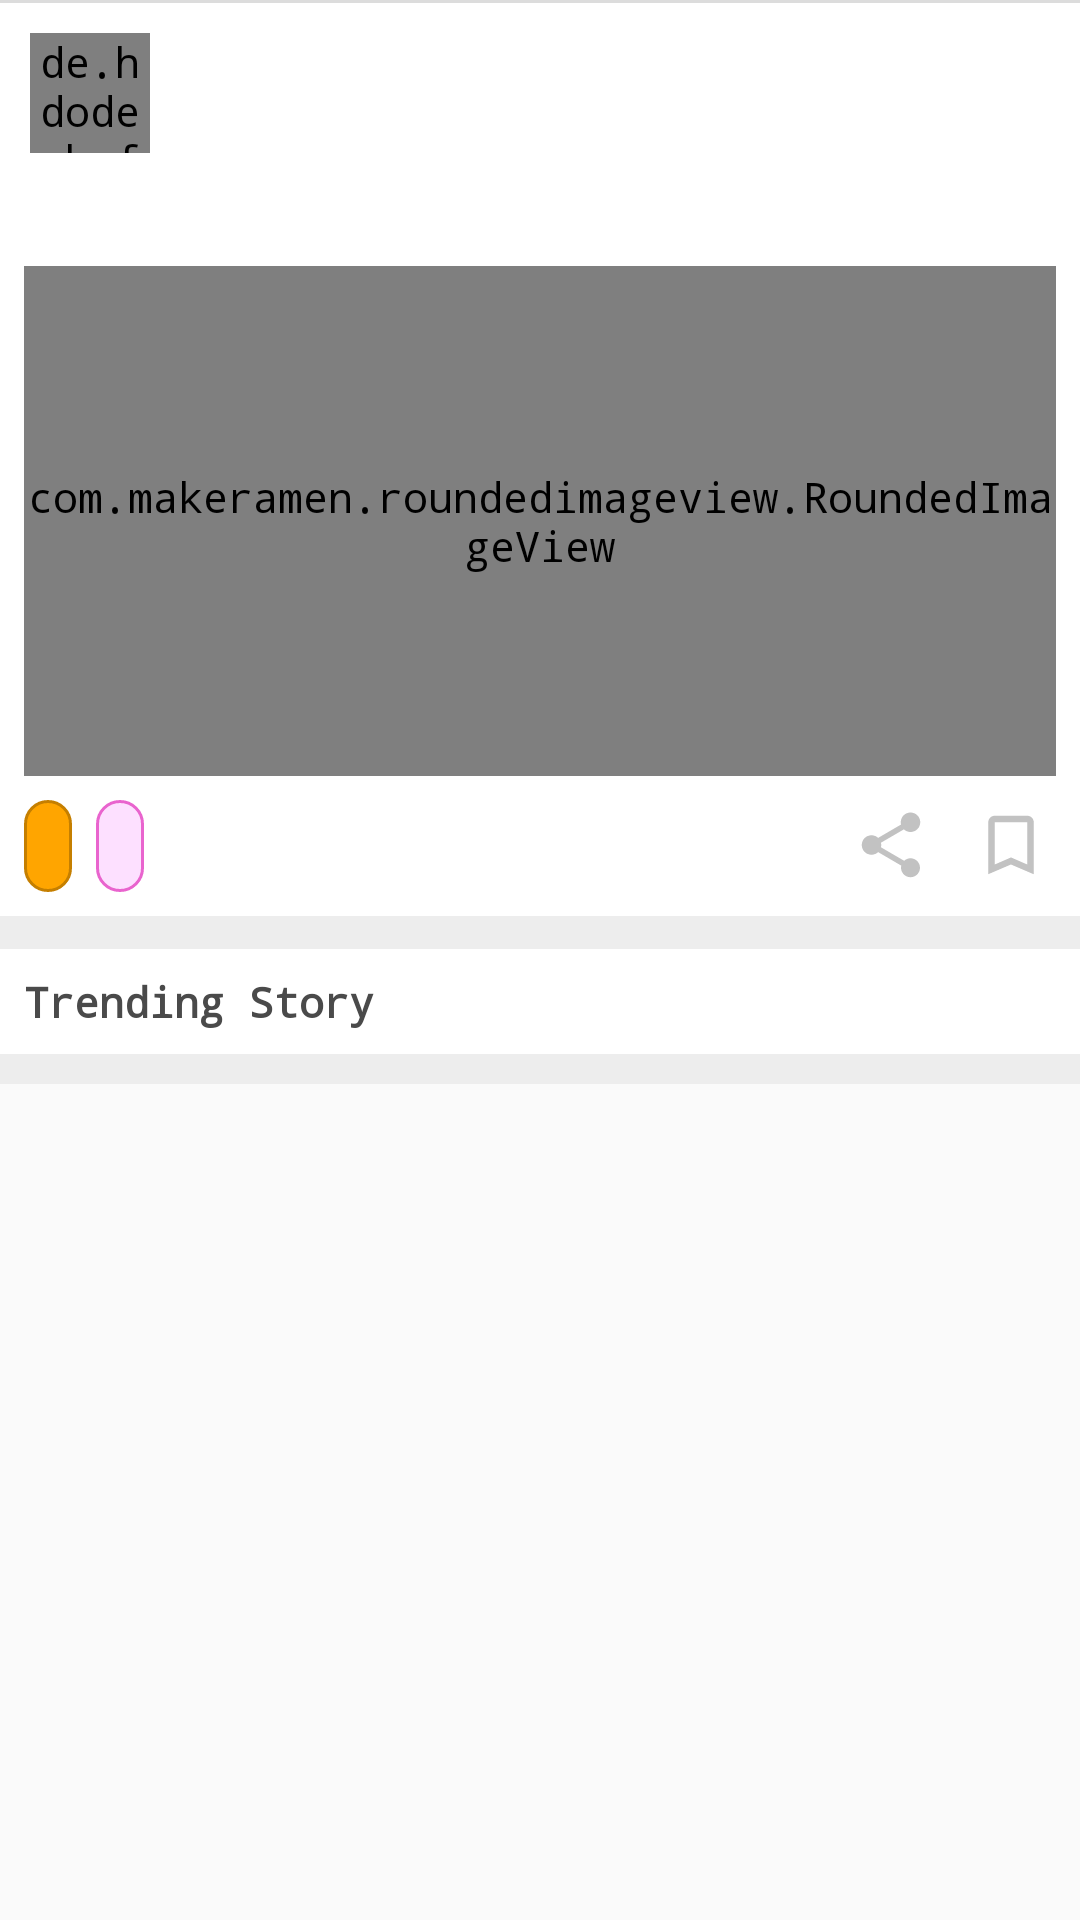

Icons on this 1080 × 1920 Android screen, each with its box as (x1, y1, x2, y2):
bookmark border: (988, 816, 1034, 874)
share: (862, 812, 920, 877)
